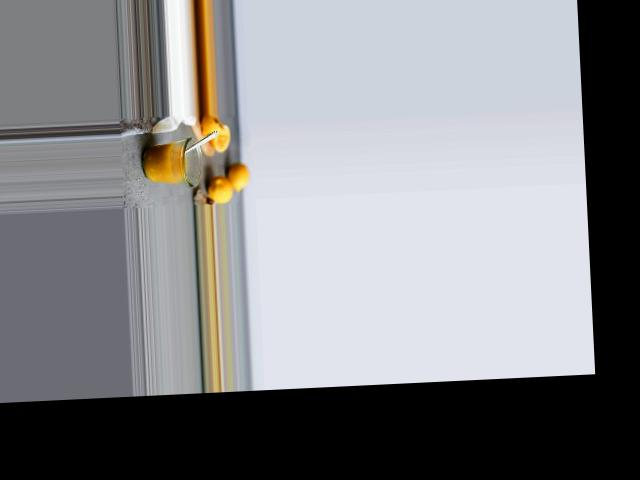lemon: (229, 163, 252, 195)
